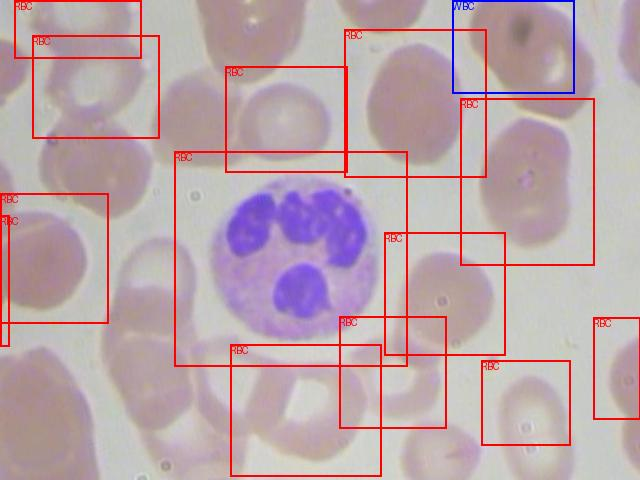RBC: (174, 151, 407, 366), (460, 98, 594, 265), (344, 29, 486, 177), (230, 344, 381, 476), (384, 232, 505, 355), (0, 193, 108, 323), (32, 35, 159, 138), (225, 66, 347, 172), (339, 316, 446, 428), (481, 360, 570, 445), (14, 0, 141, 58), (593, 317, 640, 419), (0, 215, 9, 346)
WBC: (452, 0, 574, 93)
